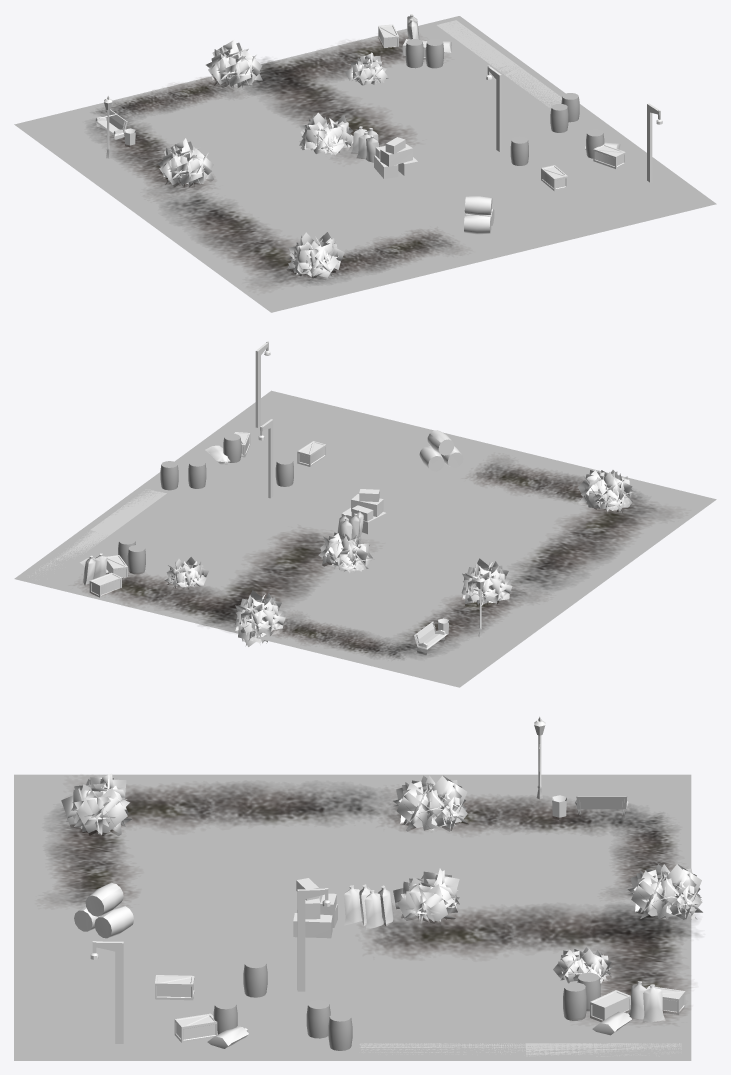
Rendered from propsonly_brew-corner2.gltf.
3 renders of one model, top to bottom at view 1: azimuth 30°, elevation 25°; view 2: azimuth 150°, elevation 25°; view 3: azimuth 270°, elevation 25°, orthographic. The views are drawn at different scales.
Visible parts, largest first — view 1: file_b2_ground1.050, file_b2_ground1.047, file_b2_ground1.044, file_b2_ground1.049, file_b2_ground1.043, file_b2_ground2.006, file_b2_ground1.051, file_b2_ground1.045, file_b2_ground1.048, file_b1_ground.002, file_b2_ground4.002, file_b2_ground3.031 (+27 smaller); view 2: file_b2_ground4.002, file_b2_ground1.051, file_b2_ground1.044, file_b2_ground1.049, file_b2_ground1.043, file_b2_ground2.006, file_b2_ground1.050, file_b2_ground3.031, file_b2_ground1.047, file_b2_ground1.045, file_b2_ground1.048, file_b2_ground1.046 (+23 smaller); view 3: file_b2_ground2.006, file_b2_ground4.002, file_b2_ground1.047, file_b2_ground1.049, file_b2_ground1.048, file_b2_ground1.043, file_b2_ground3.031, file_b2_ground1.051, file_b2_ground1.046, file_b2_ground1.044, prop_darken2.033, file_b1_ground.002 (+33 smaller).
Boxes of the visible parts, <box> form: file_b2_ground1.050: <box>123,76,310,143</box>; file_b2_ground1.047: <box>141,190,320,266</box>; file_b2_ground1.044: <box>322,209,497,286</box>; file_b2_ground1.049: <box>546,155,716,233</box>; file_b2_ground1.043: <box>421,180,596,259</box>; file_b2_ground2.006: <box>406,62,590,141</box>; file_b2_ground1.051: <box>249,168,423,236</box>; file_b2_ground1.045: <box>191,116,366,193</box>; file_b2_ground1.048: <box>252,42,419,120</box>; file_b1_ground.002: <box>357,137,527,213</box>; file_b2_ground4.002: <box>14,96,180,174</box>; file_b2_ground3.031: <box>209,233,389,312</box>; file_b2_ground4.002: <box>340,608,528,687</box>; file_b2_ground1.051: <box>363,492,545,561</box>; file_b2_ground1.044: <box>434,444,607,518</box>; file_b2_ground1.049: <box>202,390,389,470</box>; file_b2_ground1.043: <box>313,417,498,496</box>; file_b2_ground2.006: <box>83,482,264,559</box>; file_b2_ground1.050: <box>233,584,418,658</box>; file_b2_ground3.031: <box>537,470,716,549</box>; file_b2_ground1.047: <box>472,521,647,591</box>; file_b2_ground1.045: <box>311,535,476,610</box>; file_b2_ground1.048: <box>123,555,310,633</box>; file_b2_ground1.046: <box>409,567,590,640</box>; file_b2_ground2.006: <box>344,984,525,1060</box>; file_b2_ground4.002: <box>509,774,691,851</box>; file_b2_ground1.047: <box>179,774,360,851</box>; file_b2_ground1.049: <box>14,984,195,1060</box>; file_b2_ground1.048: <box>509,914,691,990</box>; file_b2_ground1.043: <box>14,914,195,990</box>; file_b2_ground3.031: <box>14,774,195,851</box>; file_b2_ground1.051: <box>179,844,360,921</box>; file_b2_ground1.046: <box>344,774,525,851</box>; file_b2_ground1.044: <box>14,844,195,921</box>; prop_darken2.033: <box>368,906,697,958</box>; file_b1_ground.002: <box>195,914,360,990</box>.
Size of what is drawn, in the model's own units: 4.15 by 0.8508 by 4.26.
